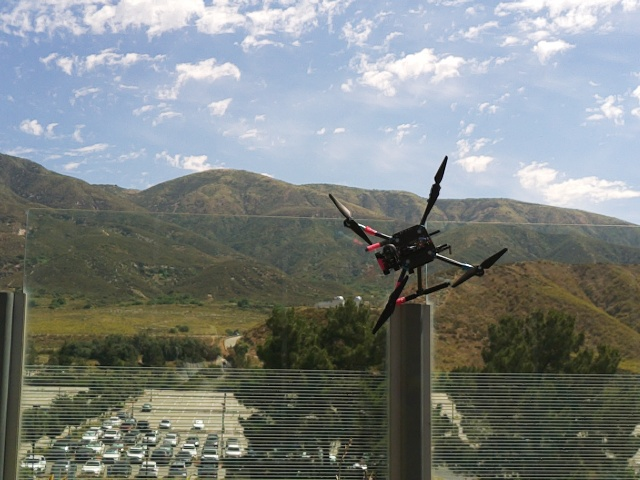quadcopter: (322, 151, 524, 343)
